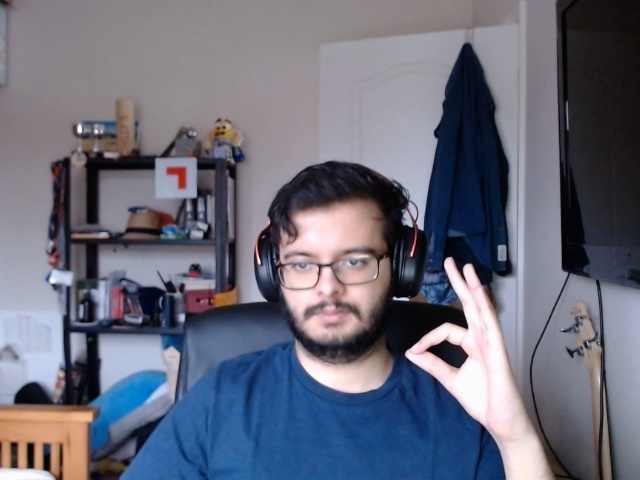Okay: (398, 251, 518, 426)
